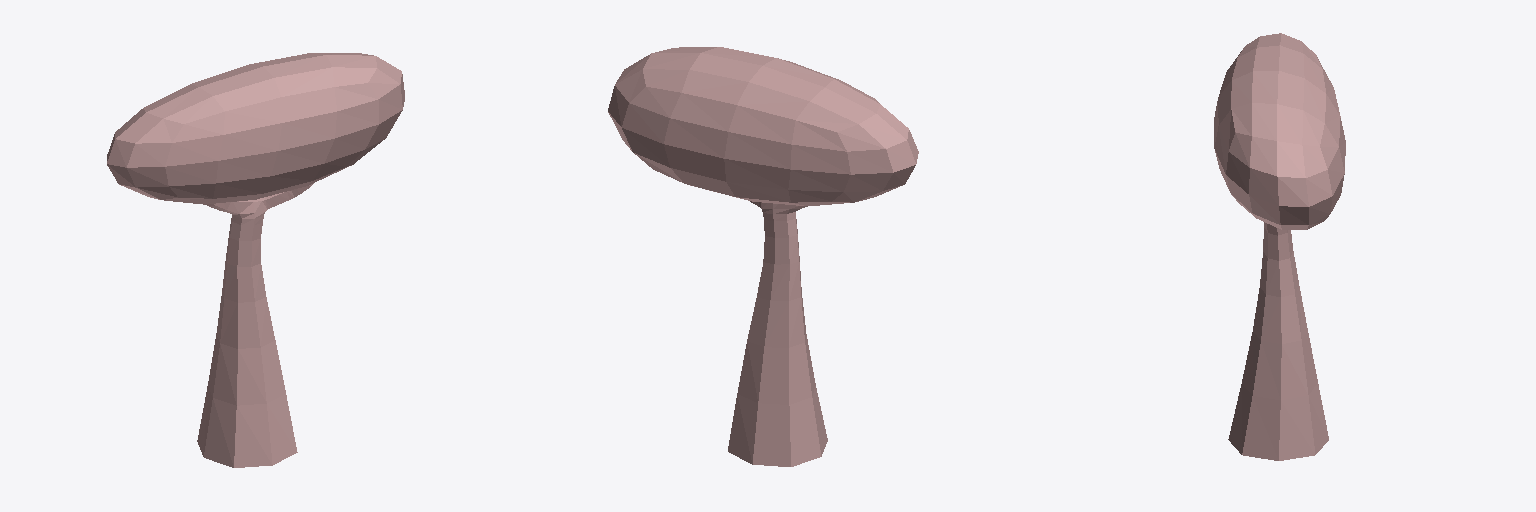
Rendered from tree.obj.
3 renders of one model, left to right at view 1: azimuth 30°, elevation 25°; view 2: azimuth 150°, elevation 25°; view 3: azimuth 270°, elevation 25°, orthographic.
Parts seen in each view (by area): view 1: Cube.001_Cube.002; view 2: Cube.001_Cube.002; view 3: Cube.001_Cube.002.
Part boxes in pixels (x1,y1,x2,y2): Cube.001_Cube.002: (107,53,404,467); Cube.001_Cube.002: (608,47,918,466); Cube.001_Cube.002: (1214,33,1345,460).
Bounding box in the file's own units: 6.24 × 7.55 × 2.4.